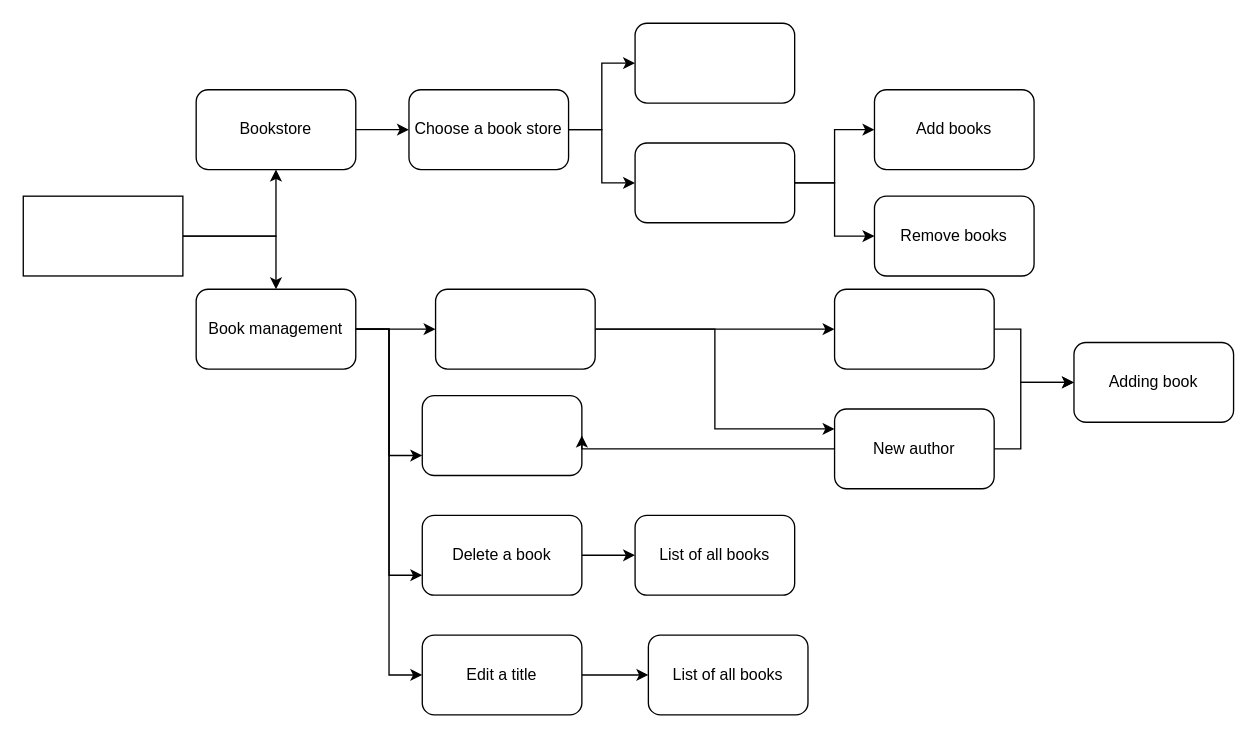
Image size: 1257x738. Some labels were removed from this diagram. The shapes that lost their labels are listed below. From the top down, each one's centre as x and y in pixels, then its label:
[714,62]: Show stock balance
[714,182]: Add or remove books
[102,235]: What would you like to do?
[514,328]: Add a new title
[913,328]: Existing author
[501,434]: Add a new author
